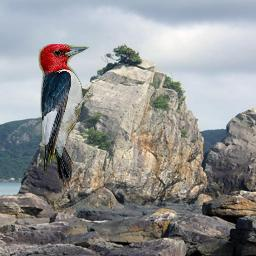Woodpecker: (36, 44, 98, 193)
